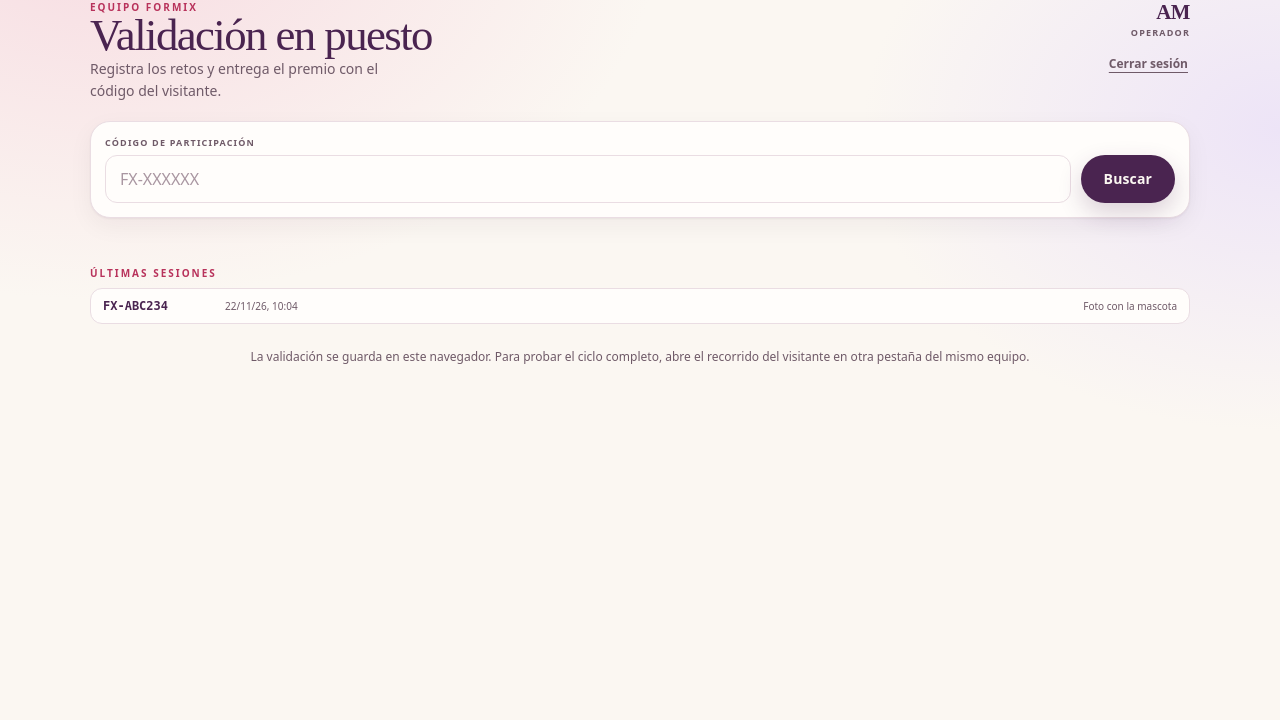
operator upgrades the prize with the second win and redeems once
The width and height of the screenshot is (1280, 720).
Type "FX-ABC234" into the field labelled "Código de participación" at (588, 179), box [105,155,1071,203]
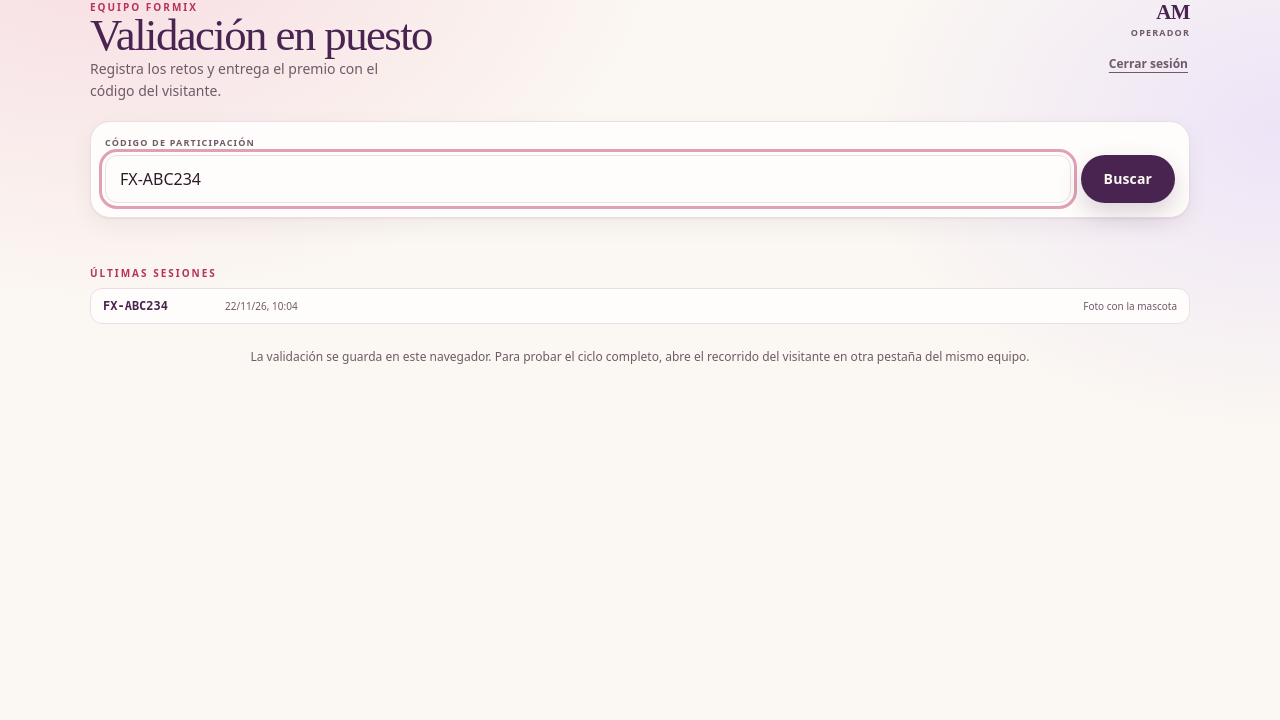
Click the button "Buscar" at (1128, 179), box [1081,155,1175,203]
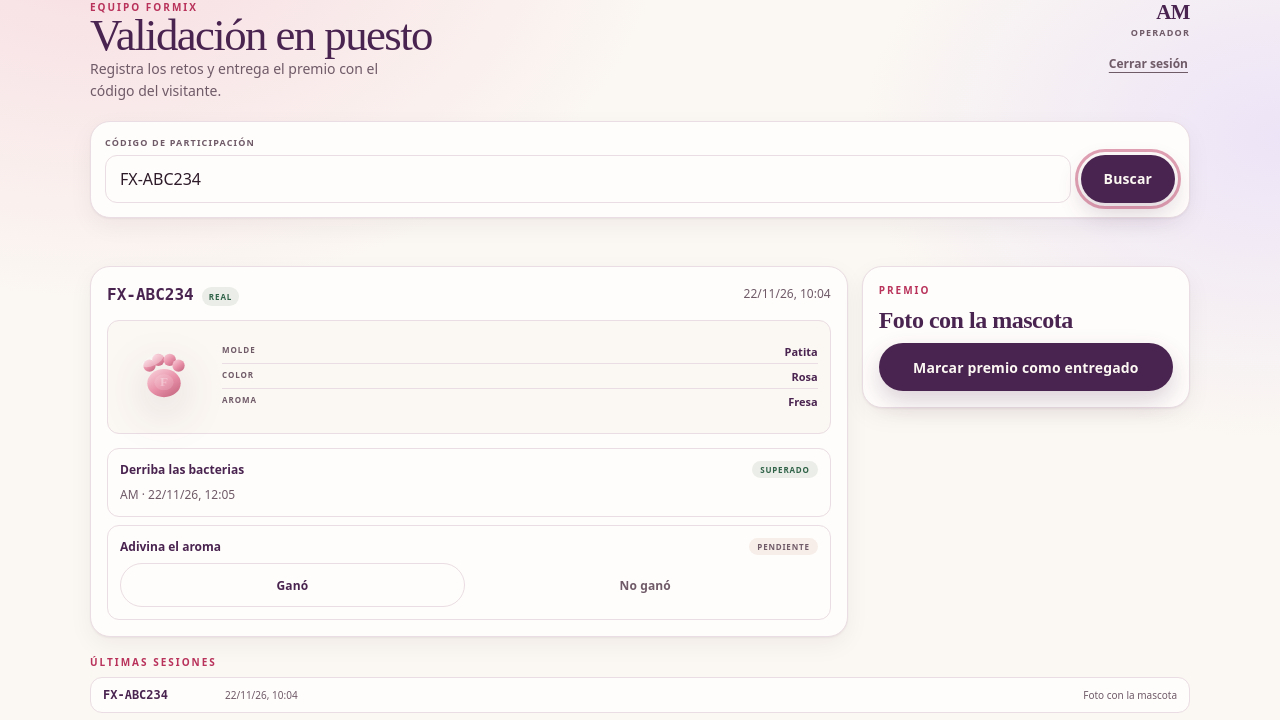
Click the button with aria-label "Ganó en Adivina el aroma" at (292, 585), box [120,563,465,607]
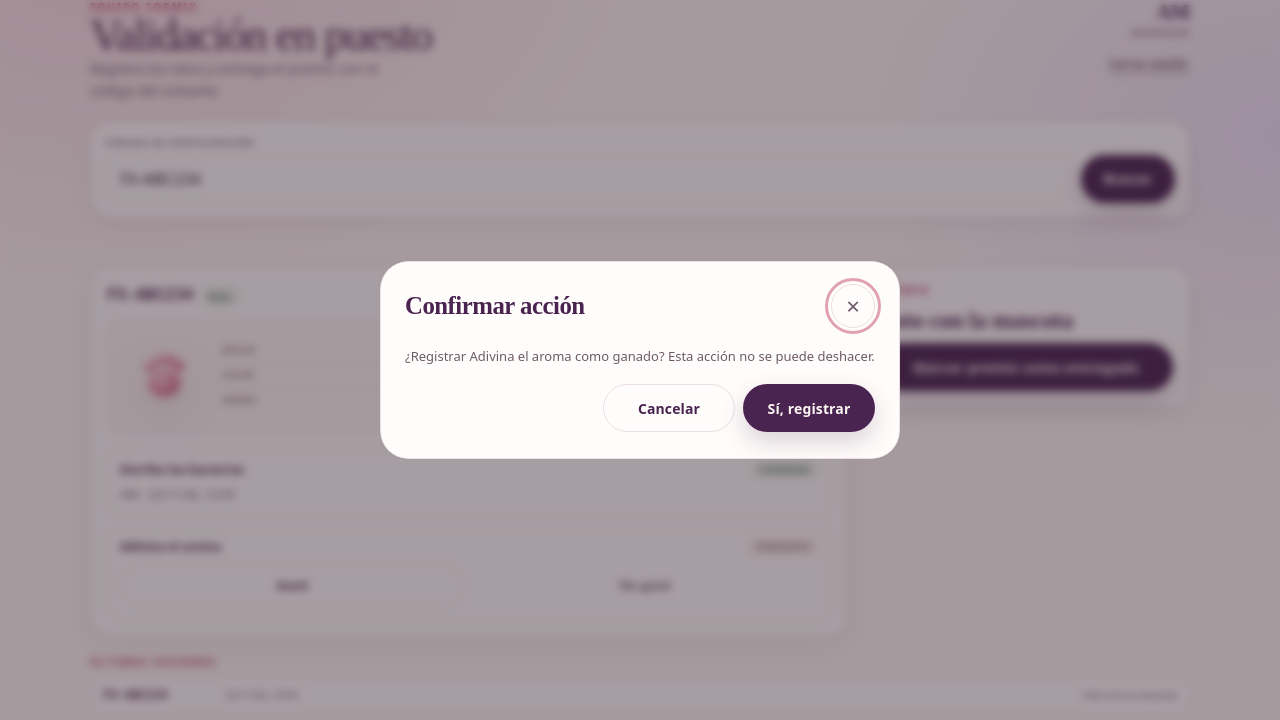
Click the button "Sí, registrar" at (809, 408), box [743,384,875,432]
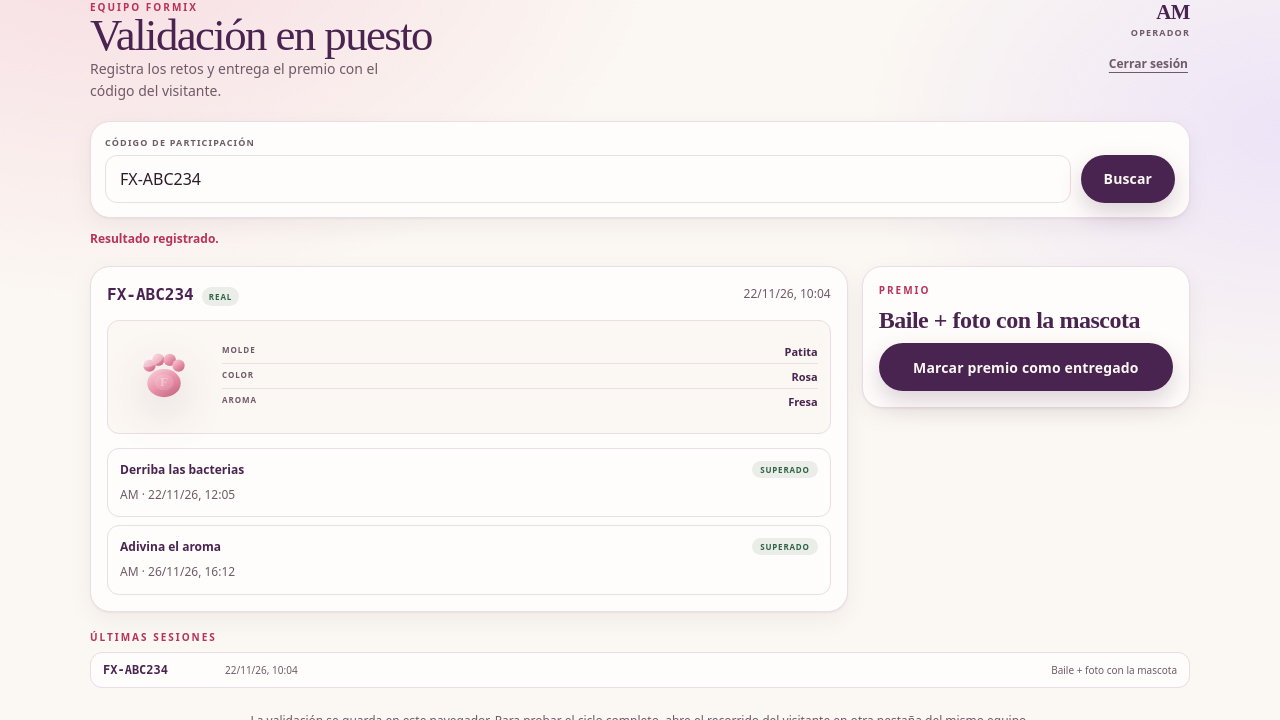
Expected: the heading "Baile + foto con la mascota" is shown, [879,307,1173,333]
Click the button "Marcar premio como entregado" at (1026, 367), box [879,343,1173,391]
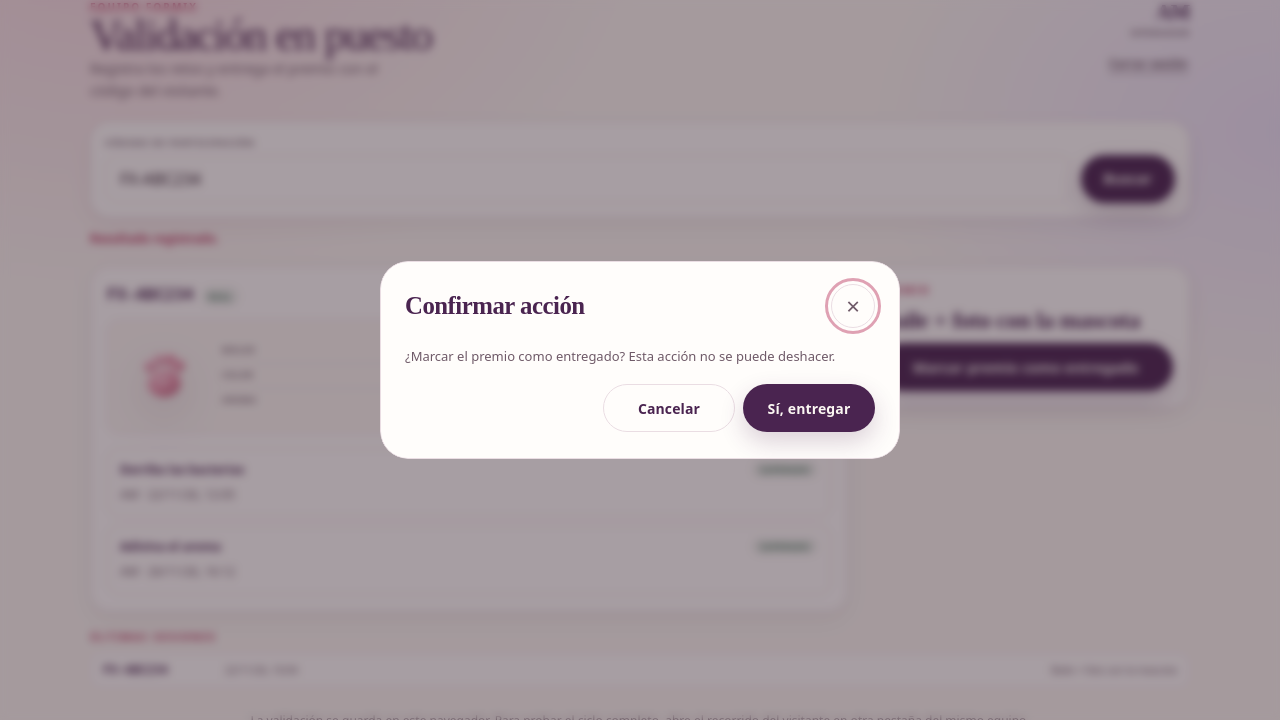
Expected: the dialog shows "¿Marcar el premio como entregado? Esta acción no se puede deshacer.", [405,347,835,365]
Click the button "Sí, entregar" at (809, 408), box [743,384,875,432]
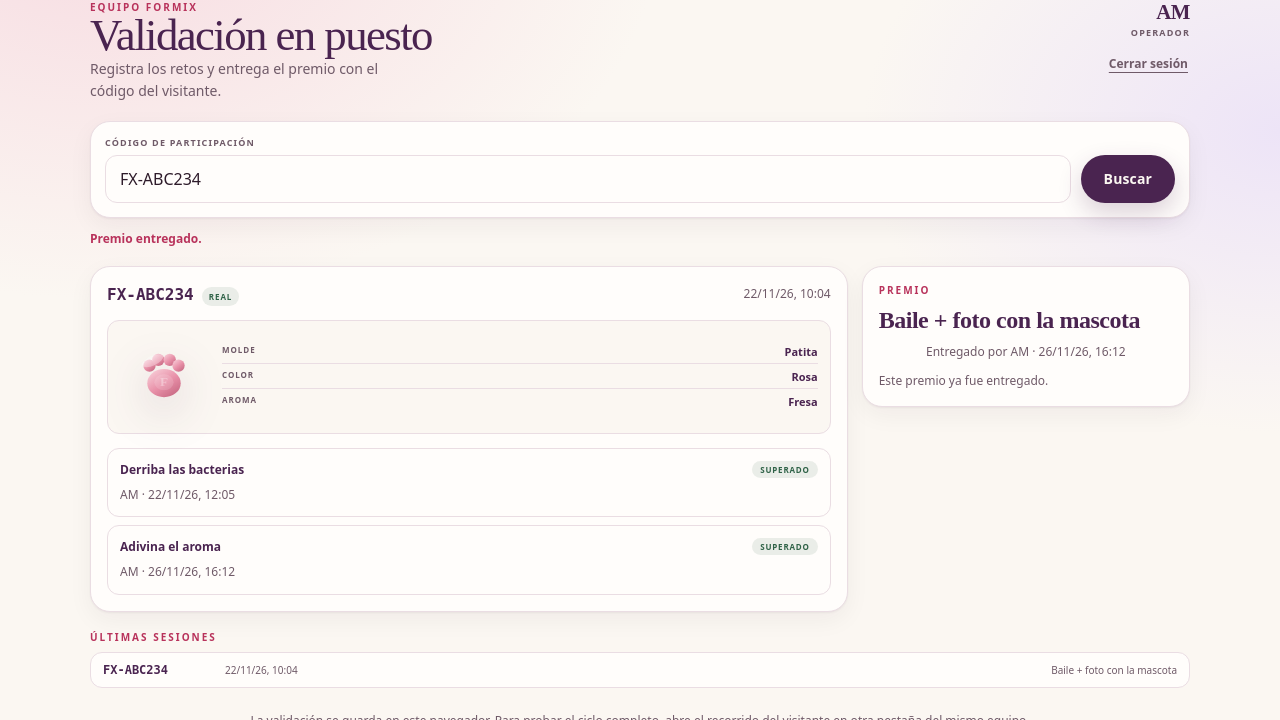
Expected: the text "Entregado por AM · 26/11/26, 16:12" is shown, [926,343,1126,360]
Expected: the text "Este premio ya fue entregado." is shown, [879,372,1048,389]
